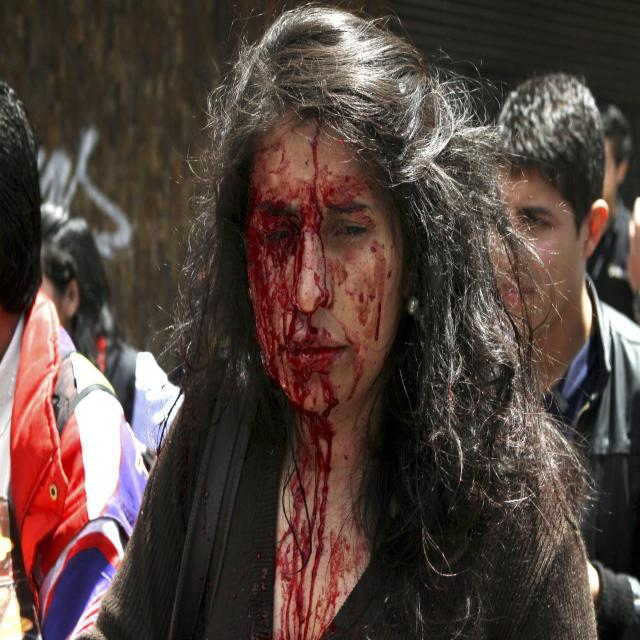flood: (214, 124, 382, 636)
